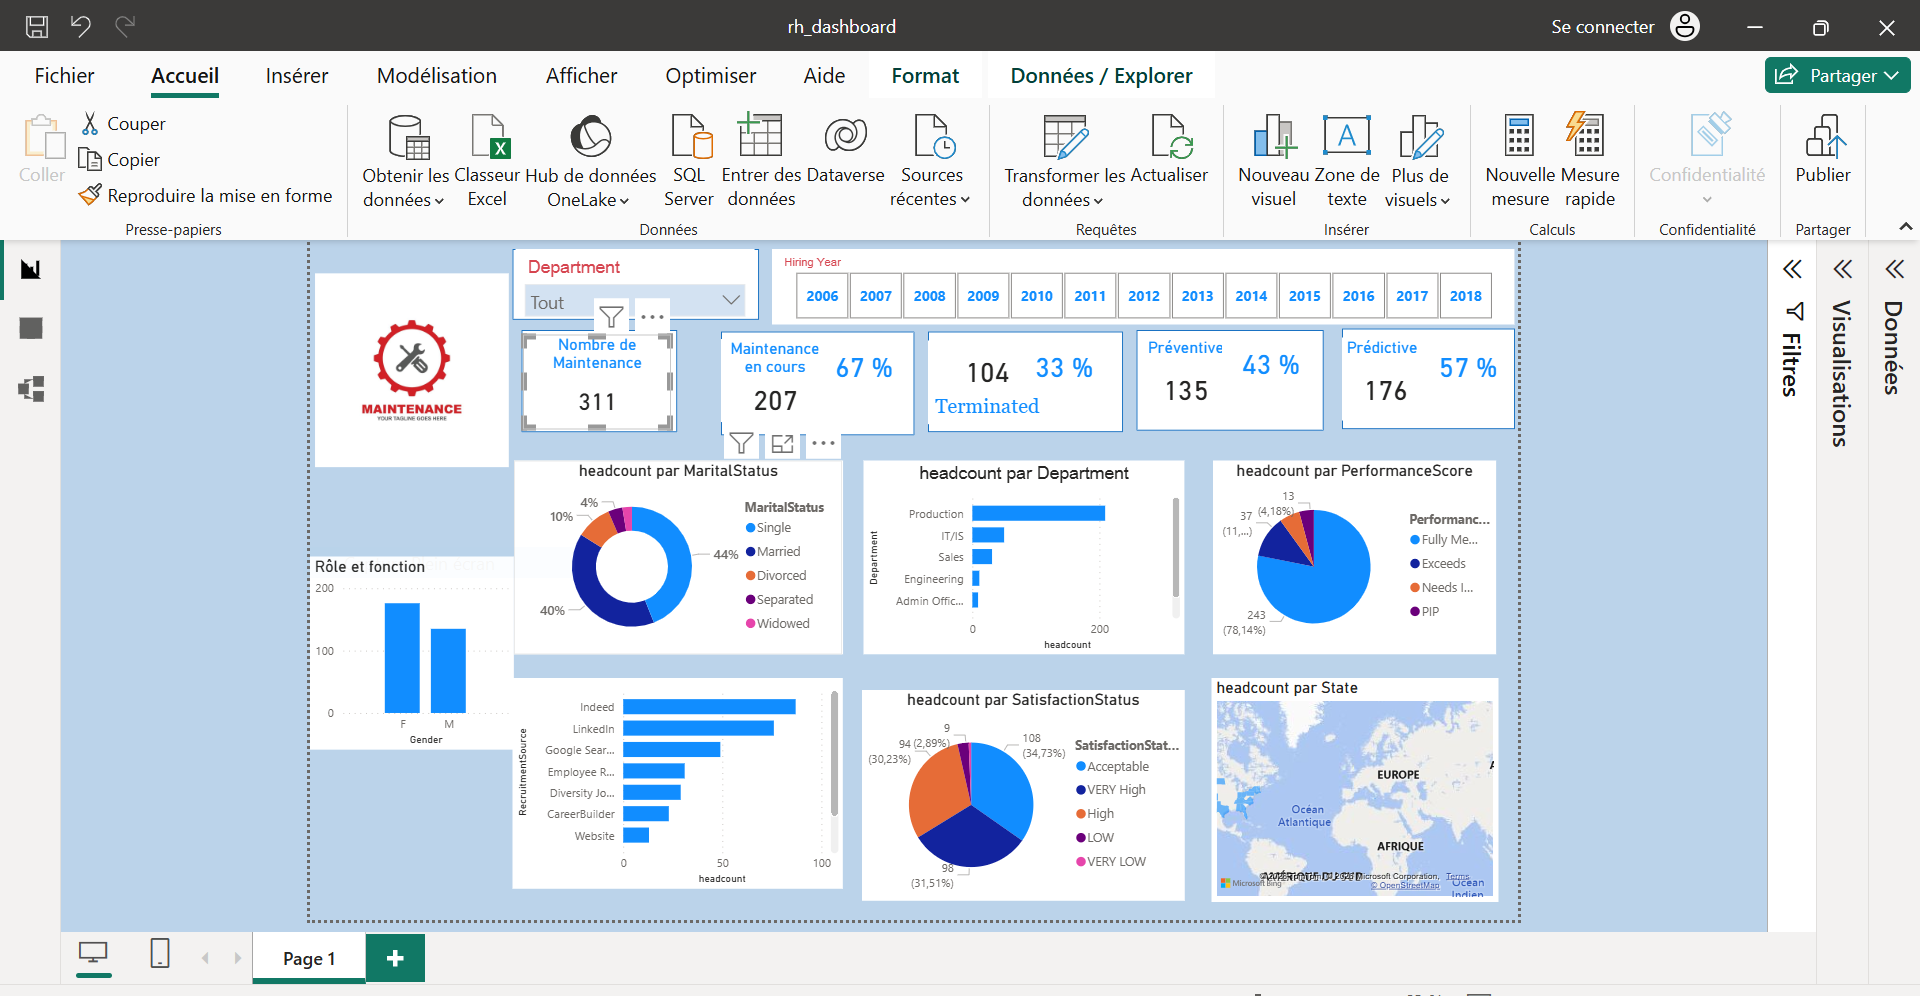

The page's visual inventory and layout, read from the dashboard file:
{"tool":"powerbi","page":{"name":"Page 1","canvas":[1280,720],"ordinal":0},"visuals":[{"type":"shape","box":[215,8.8,261.2,75],"z":1000},{"type":"shape","box":[223.3,95,165,108.3],"z":2000},{"type":"shape","box":[435,96.7,205,110],"z":3000},{"type":"shape","box":[655,96.7,206.7,106.7],"z":4000},{"type":"shape","box":[875,95,198.3,106.7],"z":5000},{"type":"shape","box":[1093.3,93.3,183.3,106.7],"z":6000},{"type":"slicer","fields":{"Values":["HRData.Department"]},"box":[218.3,10,253.3,73.3],"z":9000},{"type":"slicer","fields":{"Values":["HRData.Hiring Year"]},"box":[490,10,786.7,80],"z":10000},{"type":"card","title":"Maintenance  en  cours  ","fields":{"Values":["All measures.Active"]},"box":[435.2,105.1,114.4,88.2],"z":11000},{"type":"card","title":"Nombre  de  Maintenance ","fields":{"Values":["All measures.headcount"]},"box":[230,96.7,158.3,100],"z":12000},{"type":"card","fields":{"Values":["All measures.Active %"]},"box":[538.4,108.8,95.7,48.8],"z":13000},{"type":"card","fields":{"Values":["All measures.Terminated"]},"box":[655,106.7,125,88.3],"z":14000},{"type":"card","title":"Préventive","fields":{"Values":["All measures.Male"]},"box":[881.7,103.2,91.9,88.2],"z":15000},{"type":"card","fields":{"Values":["All measures.Terminated %"]},"box":[758.3,108.3,81.7,50],"z":16000},{"type":"card","title":"Prédictive","fields":{"Values":["All measures.Female"]},"box":[1093.7,103.2,91.9,88.2],"z":17000},{"type":"card","fields":{"Values":["All measures.Male %"]},"box":[966.7,105,103.3,50],"z":18000},{"type":"card","fields":{"Values":["All measures.Female %"]},"box":[1185,108.3,81.7,50],"z":19000},{"type":"donutChart","fields":{"Y":["All measures.headcount"],"Category":["HRData.MaritalStatus"]},"box":[216.7,233.3,348.3,205],"z":20000},{"type":"clusteredBarChart","fields":{"Y":["All measures.headcount"],"Category":["HRData.Department"]},"box":[586.7,233.3,340,205],"z":21000},{"type":"pieChart","fields":{"Y":["All measures.headcount"],"Category":["HRData.PerformanceScore"]},"box":[956.7,233.3,300,205],"z":22000},{"type":"clusteredBarChart","fields":{"Y":["All measures.headcount"],"Category":["HRData.RecruitmentSource"]},"box":[215,463.3,350,223.3],"z":23000},{"type":"pieChart","fields":{"Y":["All measures.headcount"],"Category":["HRData.SatisfactionStatus"]},"box":[585,476.7,341.7,223.3],"z":24000},{"type":"filledMap","fields":{"Category":["HRData.State"]},"box":[955,463.3,303.3,236.7],"z":25000},{"type":"clusteredColumnChart","title":"Rôle et fonction ","fields":{"Y":["CountNonNull(HRData.EmployeeName)"],"Category":["HRData.Gender"]},"box":[0,335.8,215.7,204.5],"z":26000},{"type":"image","box":[0,0,215.7,275.8],"z":26001}]}

Visuals, with their boxes on the page's 1280x720 design canvas (x1, y1, x2, y2). These are canvas units, not pixel positions in the 1920x996 screenshot, which may show the page scaled, cropped or inside an application window:
shape: (215,9,476,84)
shape: (223,95,388,203)
shape: (435,97,640,207)
shape: (655,97,862,203)
shape: (875,95,1073,202)
shape: (1093,93,1277,200)
slicer - HRData.Department: (218,10,472,83)
slicer - HRData.Hiring Year: (490,10,1277,90)
"Maintenance  en  cours  " card: (435,105,550,193)
"Nombre  de  Maintenance " card: (230,97,388,197)
card - All measures.Active %: (538,109,634,158)
card - All measures.Terminated: (655,107,780,195)
"Préventive" card: (882,103,974,191)
card - All measures.Terminated %: (758,108,840,158)
"Prédictive" card: (1094,103,1186,191)
card - All measures.Male %: (967,105,1070,155)
card - All measures.Female %: (1185,108,1267,158)
donutChart - All measures.headcount x HRData.MaritalStatus: (217,233,565,438)
clusteredBarChart - All measures.headcount x HRData.Department: (587,233,927,438)
pieChart - All measures.headcount x HRData.PerformanceScore: (957,233,1257,438)
clusteredBarChart - All measures.headcount x HRData.RecruitmentSource: (215,463,565,687)
pieChart - All measures.headcount x HRData.SatisfactionStatus: (585,477,927,700)
filledMap - HRData.State: (955,463,1258,700)
"Rôle et fonction " clusteredColumnChart: (0,336,216,540)
image: (0,0,216,276)
